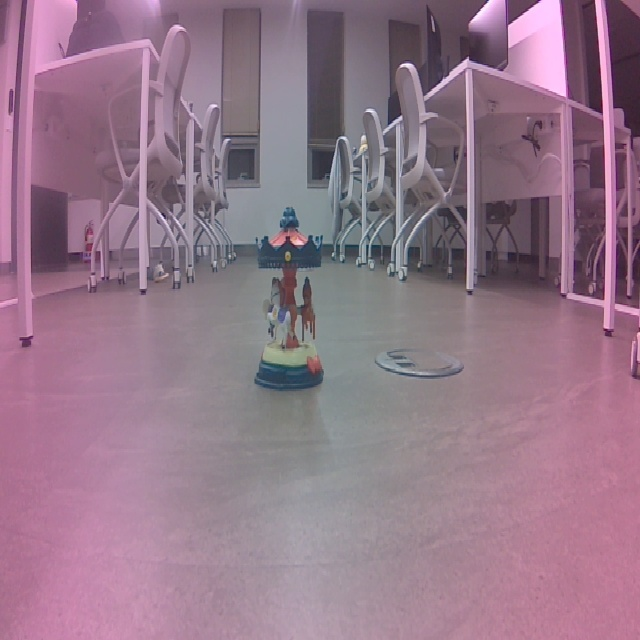목적지: (252, 200, 329, 395)
